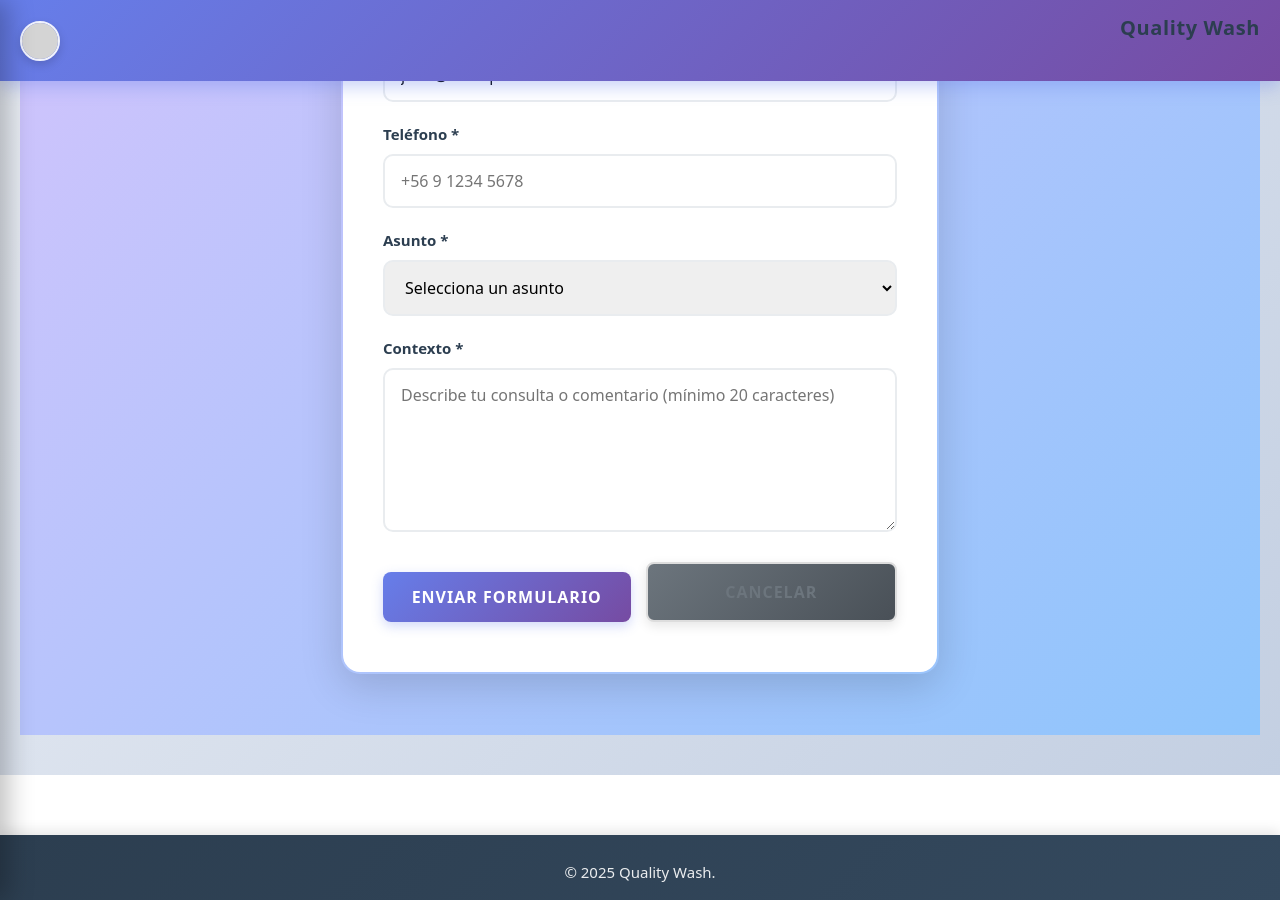
Test: Contacto Component › Validación de longitud de contexto › muestra error cuando el contexto tiene menos de 20 caracteres
(page scrolled)
Type "Texto corto" into the text box labelled "Contexto *" at (640, 450), box [383,368,897,532]
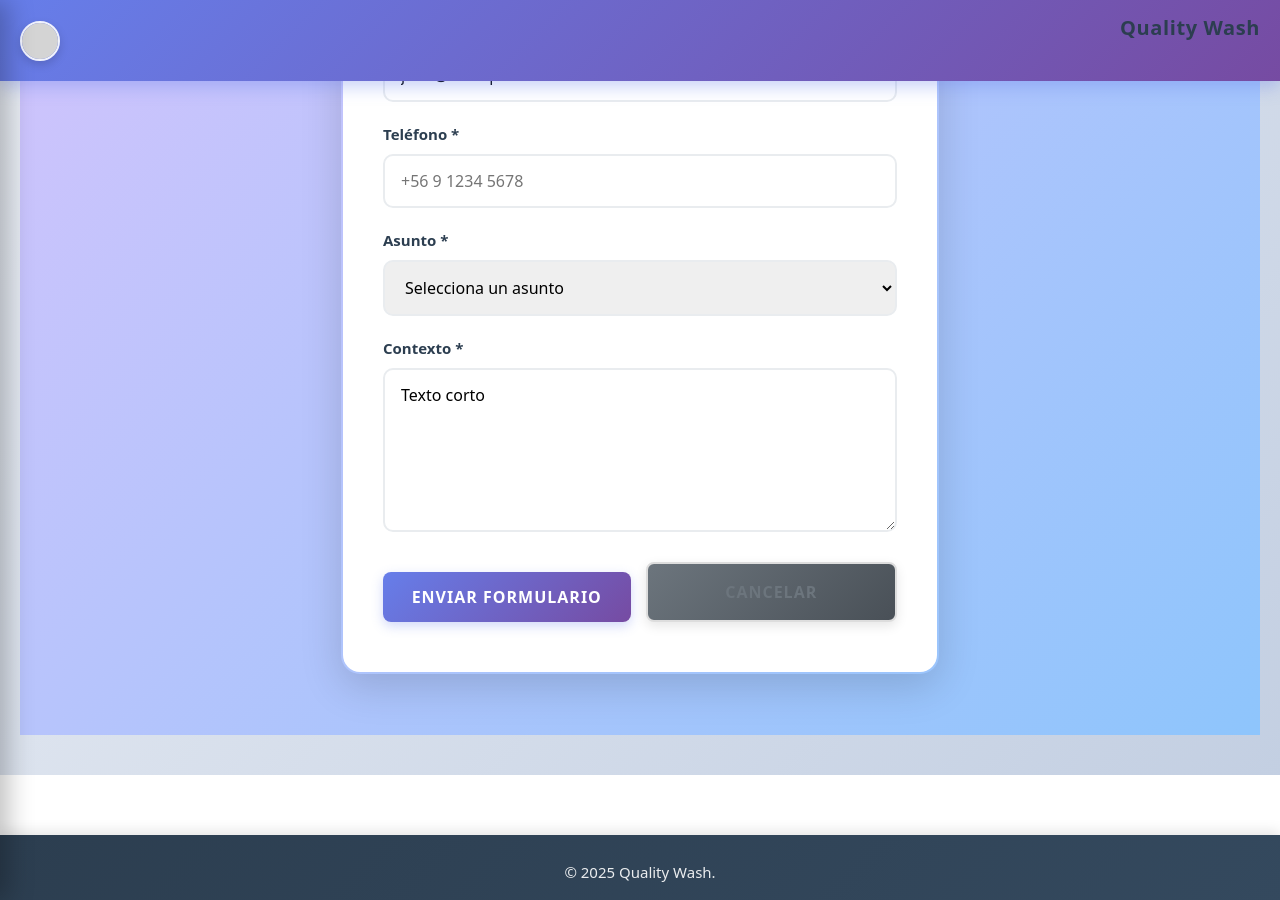
Click the button "Enviar Formulario" at (507, 597), box [383,572,630,622]
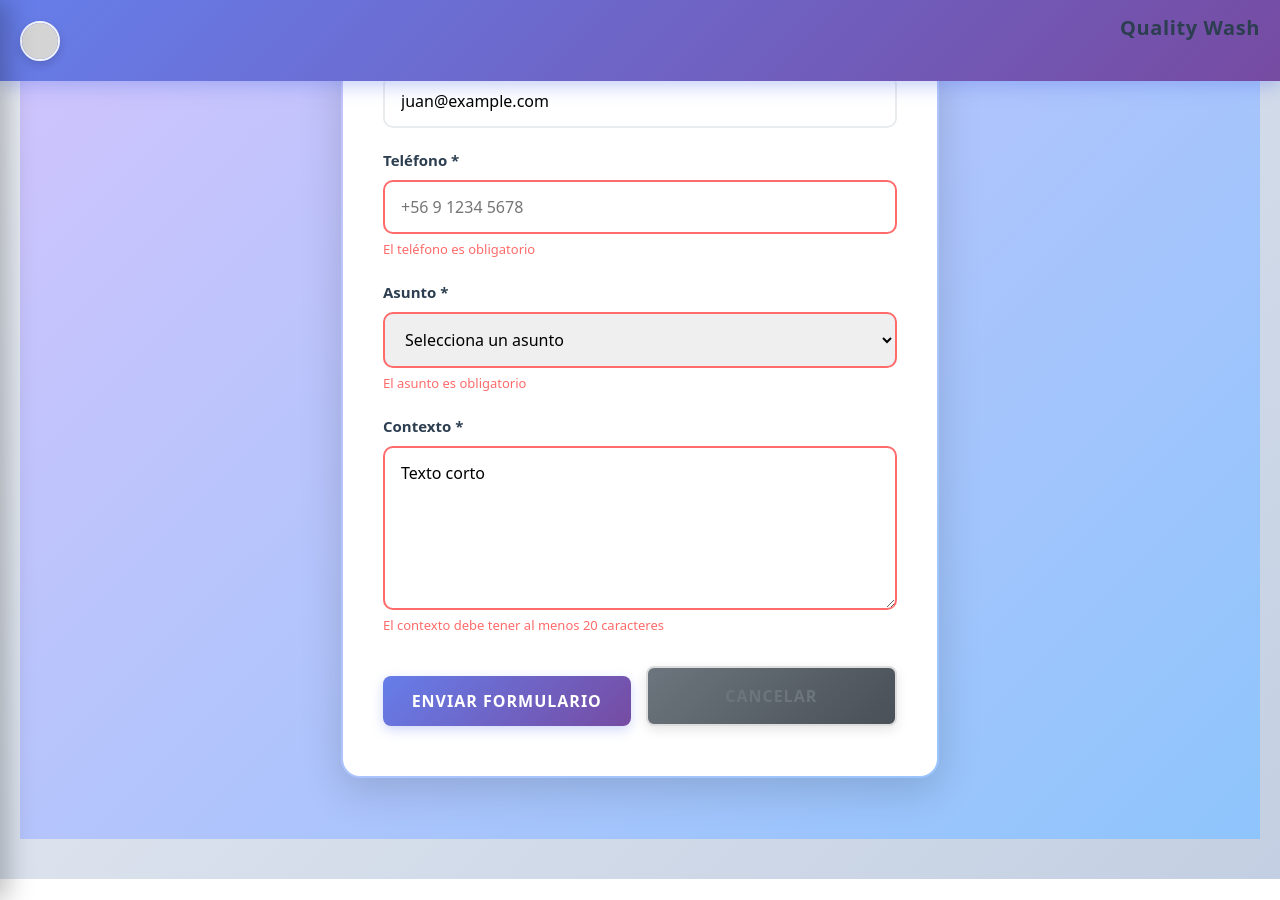
Now the text "El contexto debe tener al menos 20 caracteres" is shown, box [383,616,664,634]
